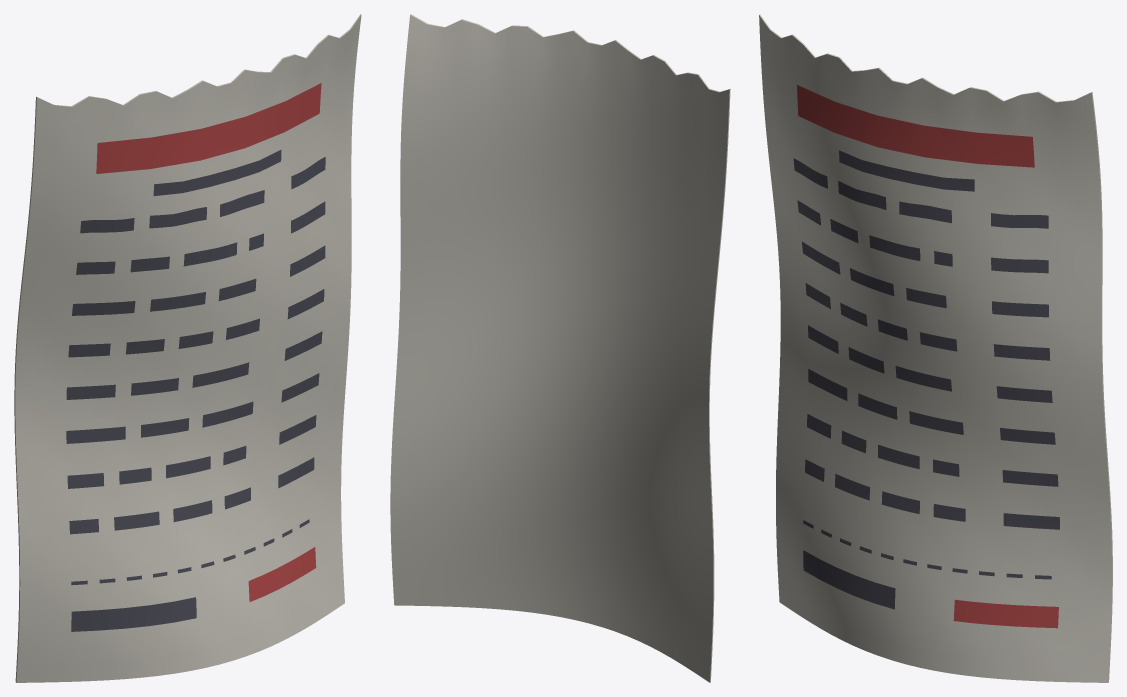
File: objednavka.glb
3 renders of one model, left to right at view 1: azimuth 30°, elevation 25°; view 2: azimuth 150°, elevation 25°; view 3: azimuth 330°, elevation 25°, orthographic. The views are drawn at different scales.
Parts seen in each view (by area): view 1: order_ticket; view 2: order_ticket; view 3: order_ticket.
Boxes of the visible parts, <box> form: order_ticket: <box>14,14,361,682</box>; order_ticket: <box>390,14,730,682</box>; order_ticket: <box>759,14,1112,682</box>.
Size of the model in its own units: 0.08 by 0.14 by 0.0205.
